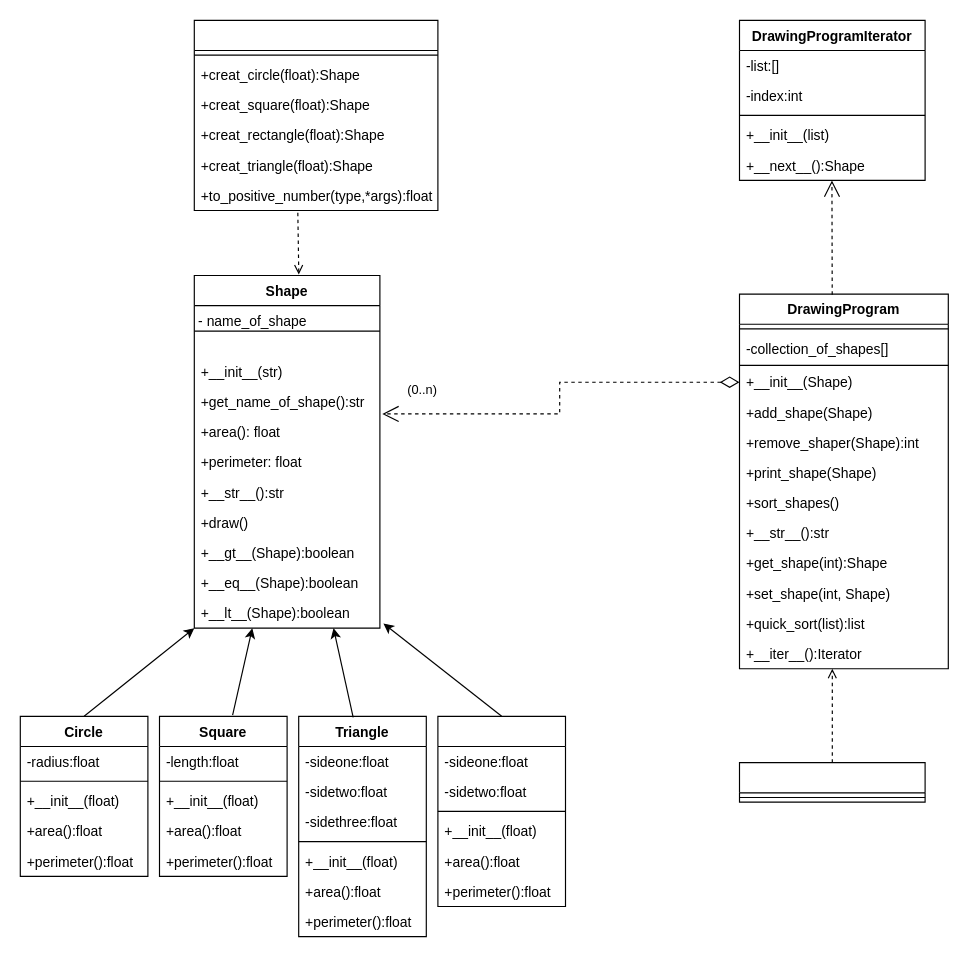
Image size: 969x960. Some labels were removed from this diagram. Each missing label, with the box of its shape:
DrawingProgramMain: (738, 762, 925, 802)
Rectangle: (437, 715, 566, 907)
ShapeFactory: (193, 19, 438, 211)
